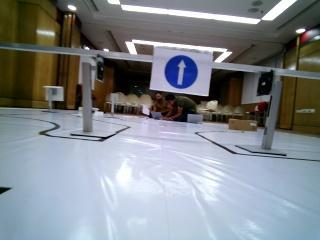straight: (155, 47, 211, 96)
